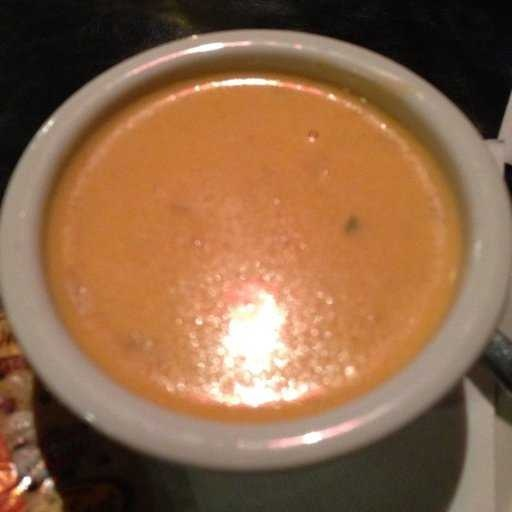soup: (26, 38, 470, 440)
